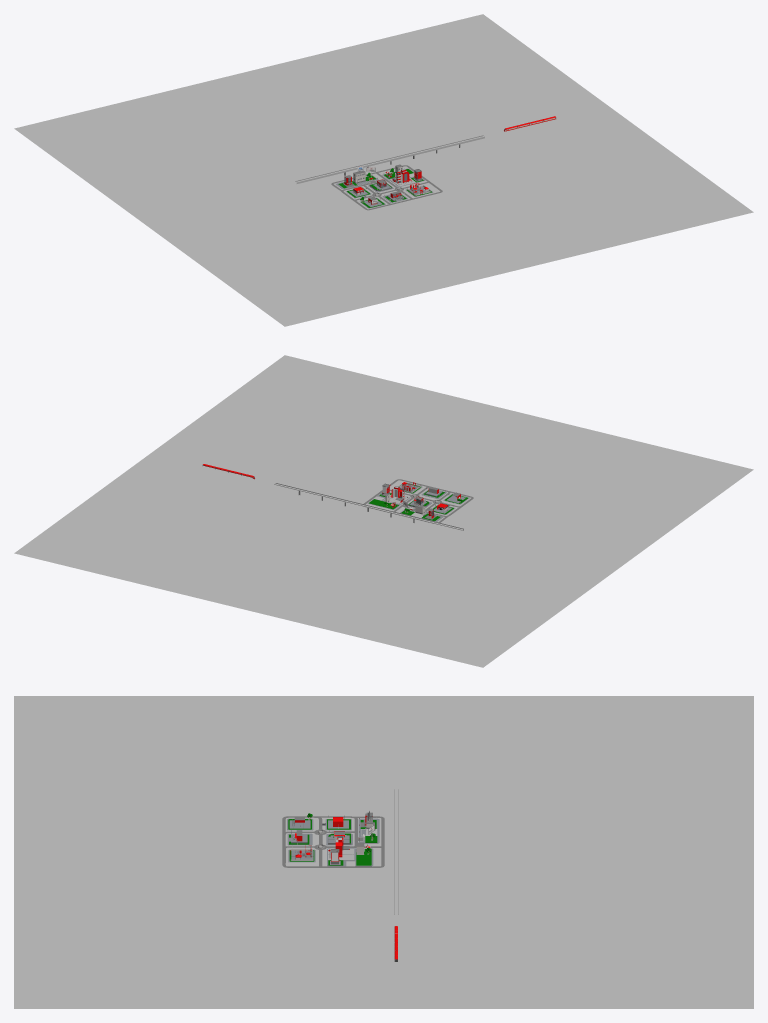
File: all_services_old.glb
The picture shows the model from 3 angles, top to bottom: view 1: azimuth 30°, elevation 25°; view 2: azimuth 150°, elevation 25°; view 3: azimuth 270°, elevation 25°; orthographic projection. The views are drawn at different scales.
Visible parts, largest first — view 1: Ground1, railway_track.001, road; view 2: Ground1, road, railway_track.001; view 3: Ground1, road, railway_track.001.
Boxes of the visible parts, bbox=[...] form: Ground1: bbox=[14, 14, 753, 326]; railway_track.001: bbox=[295, 135, 484, 183]; road: bbox=[331, 165, 442, 210]; Ground1: bbox=[14, 355, 753, 667]; road: bbox=[363, 479, 473, 523]; railway_track.001: bbox=[274, 483, 463, 530]; Ground1: bbox=[14, 696, 753, 1008]; road: bbox=[282, 816, 384, 867]; railway_track.001: bbox=[393, 789, 398, 914].
Bounding box in the file's own units: 120 × 3.71 × 120.
Materials: 40 (11 with a texture image).
